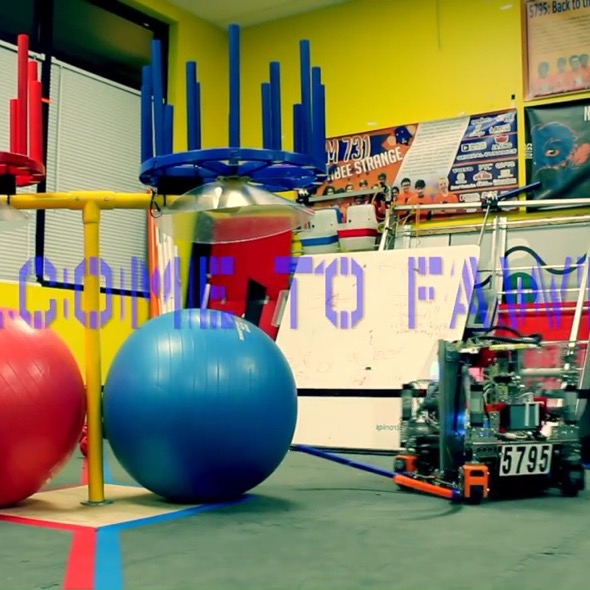ball: (75, 434, 93, 459)
yogaball: (99, 305, 300, 507), (0, 309, 87, 509)
